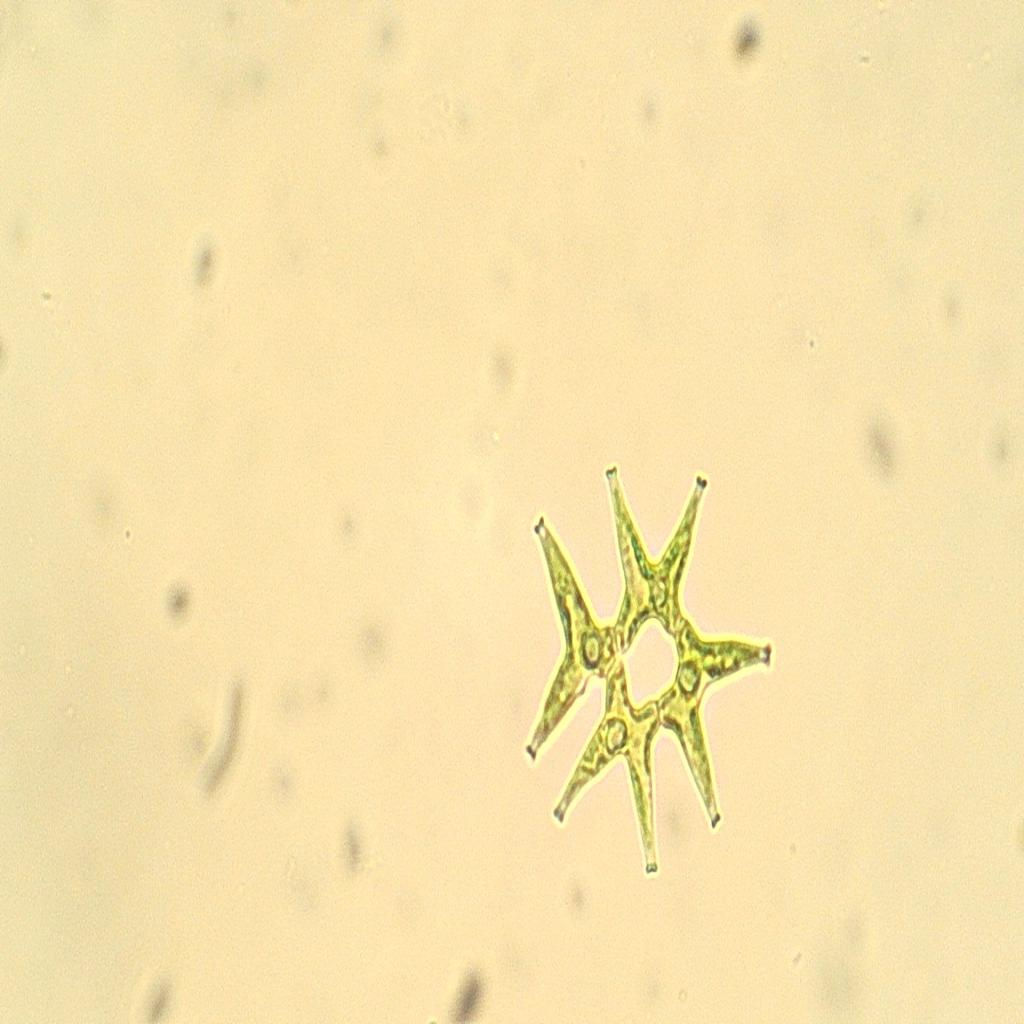Pediastrum_CT: (516, 444, 780, 895)
